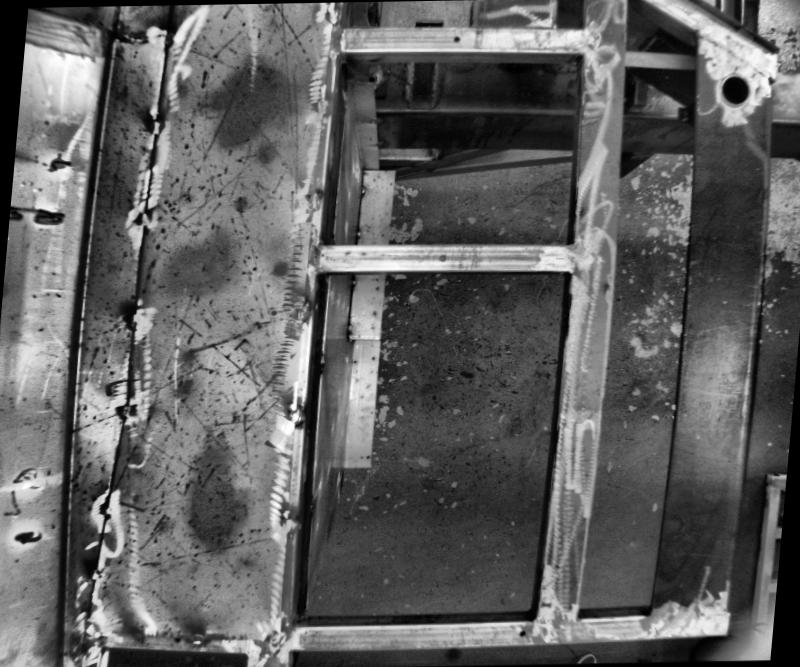hole: (715, 70, 753, 107), (436, 249, 448, 262), (519, 627, 527, 634), (458, 32, 466, 39)
